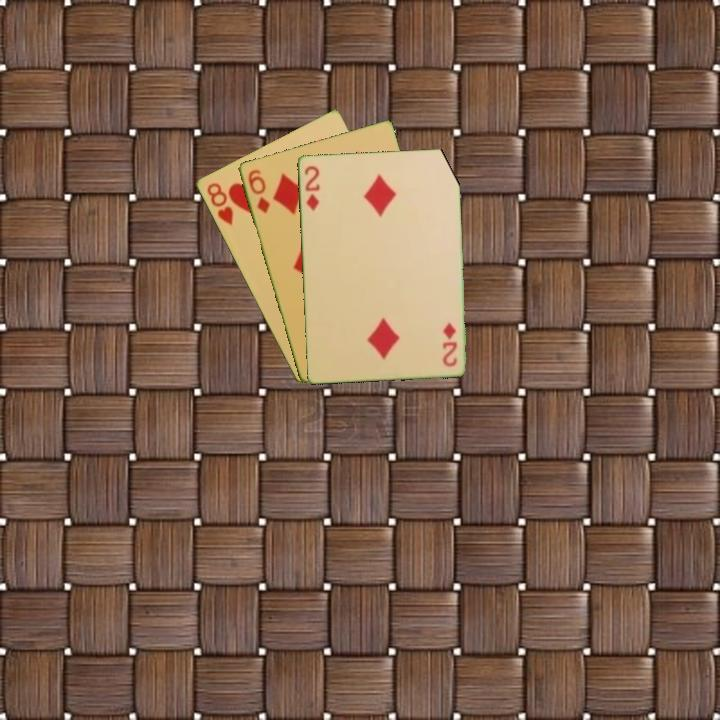2d: (301, 162, 322, 214), (440, 319, 460, 369)
6d: (244, 166, 273, 216)
8h: (203, 179, 236, 228)
